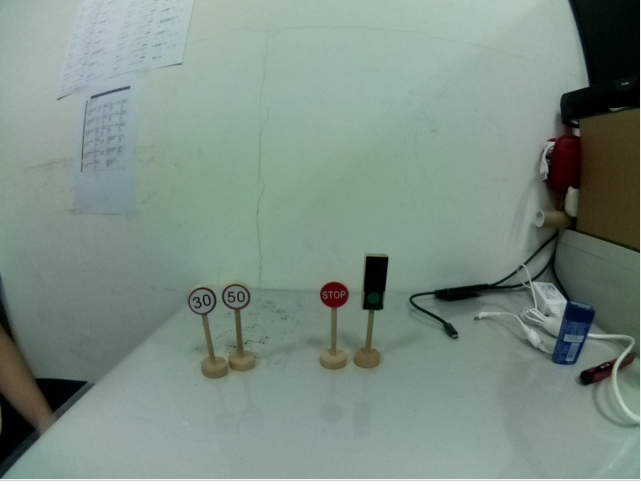Green: (360, 252, 390, 315)
Speed30: (183, 284, 223, 318)
Speed50: (222, 280, 254, 312)
Stop: (318, 278, 351, 312)
